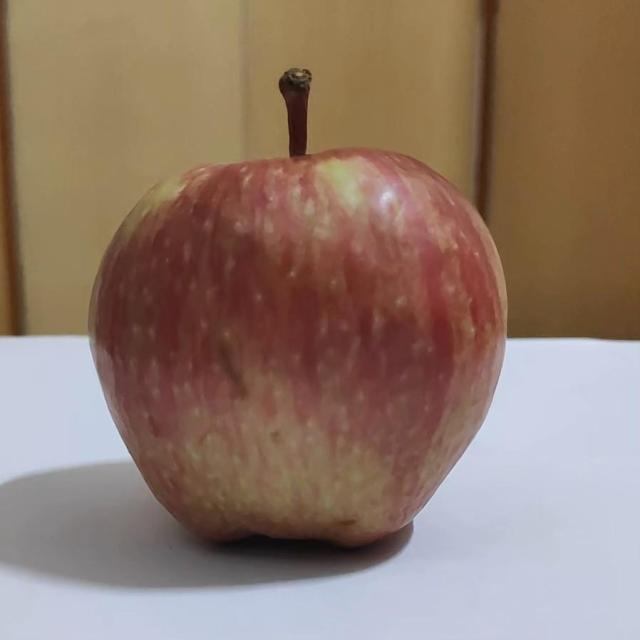Apple: (89, 149, 506, 544)
